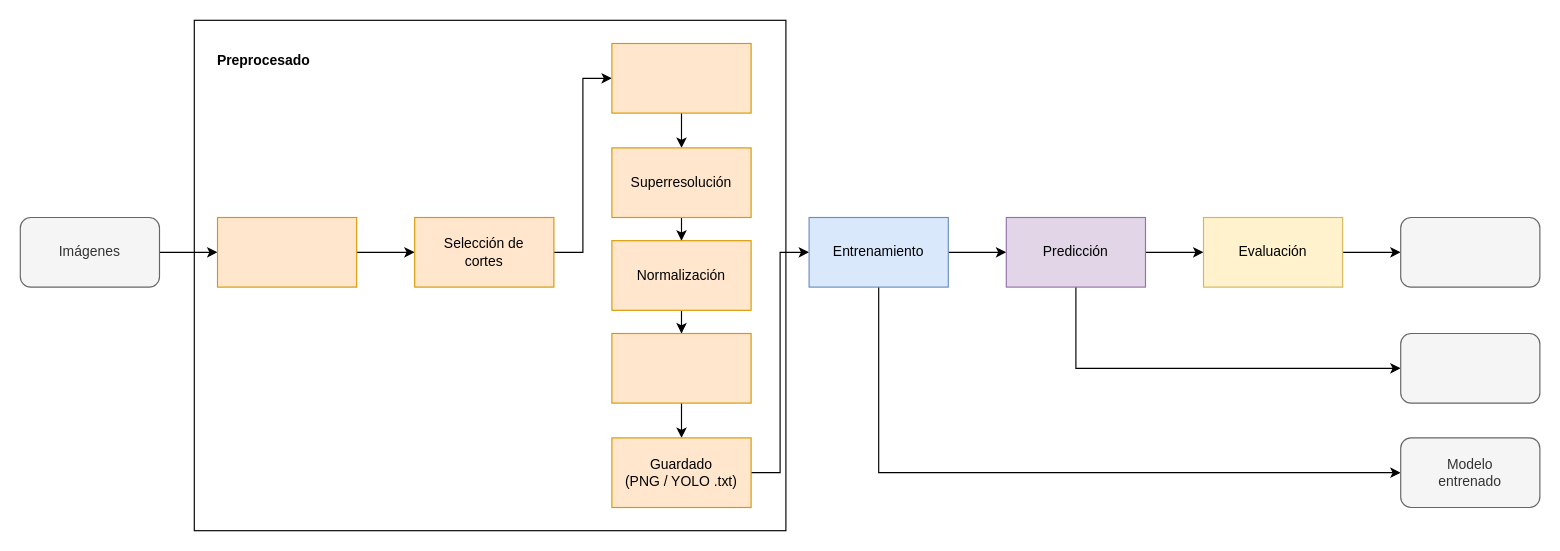
Image size: 1560x551. Some labels were removed from this diagram. The box of each missing label's shape, as (x1, y1, x2, y2) in pixels:
Binarización: (611, 332, 751, 403)
División de pacientes: (216, 216, 357, 287)
Máscaras predecidas: (1400, 332, 1540, 403)
Métricas: (1400, 216, 1540, 287)
Redimensionado: (611, 42, 751, 113)
